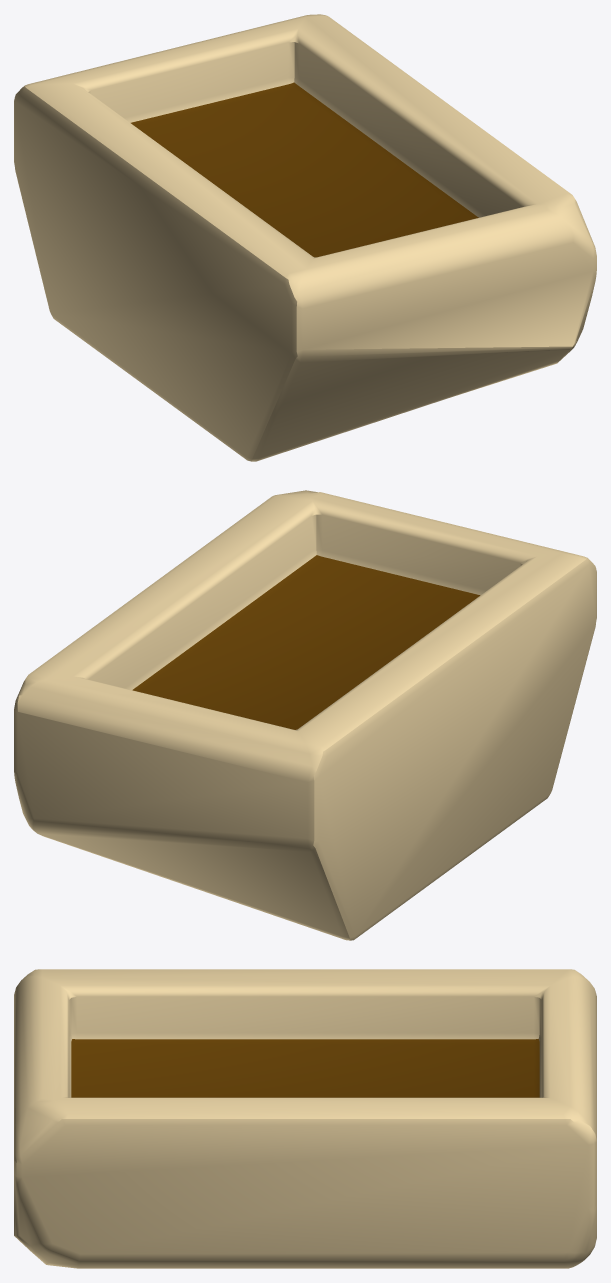
File: Module_Window_Planter_Short_01.fbx
3 views of the same model, one above another, from view 1: azimuth 30°, elevation 25°; view 2: azimuth 150°, elevation 25°; view 3: azimuth 270°, elevation 25° (orthographic). The views are drawn at different scales.
Parts seen in each view (by area): view 1: Module_Window_Planter_Short_01_Geometry; view 2: Module_Window_Planter_Short_01_Geometry; view 3: Module_Window_Planter_Short_01_Geometry.
Part boxes in pixels (x1,y1,x2,y2): Module_Window_Planter_Short_01_Geometry: [14, 14, 596, 461]; Module_Window_Planter_Short_01_Geometry: [14, 490, 596, 940]; Module_Window_Planter_Short_01_Geometry: [14, 969, 596, 1268].
Size of the model in its own units: 0.6558 by 0.4408 by 1.06.
